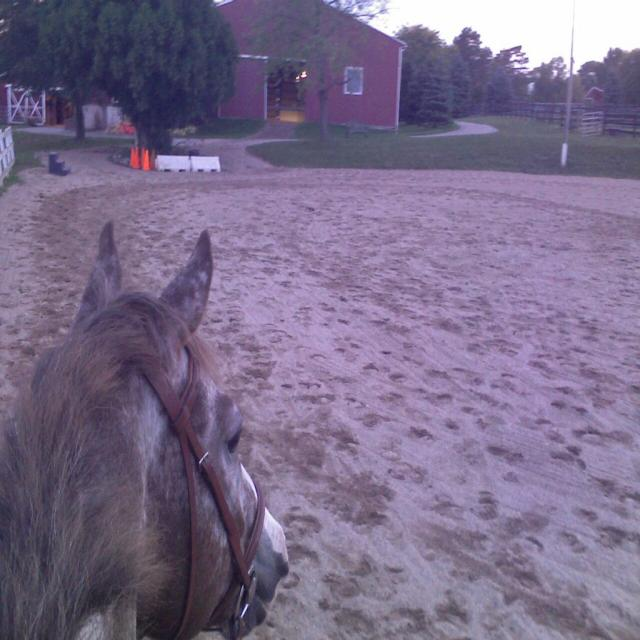Horse: (0, 222, 292, 639)
